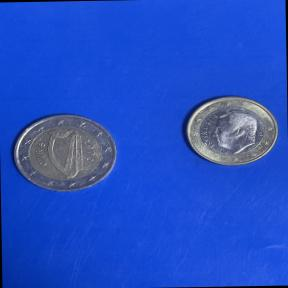1 Euro-B: (178, 92, 284, 172)
2 Euro-B: (8, 111, 120, 198)
